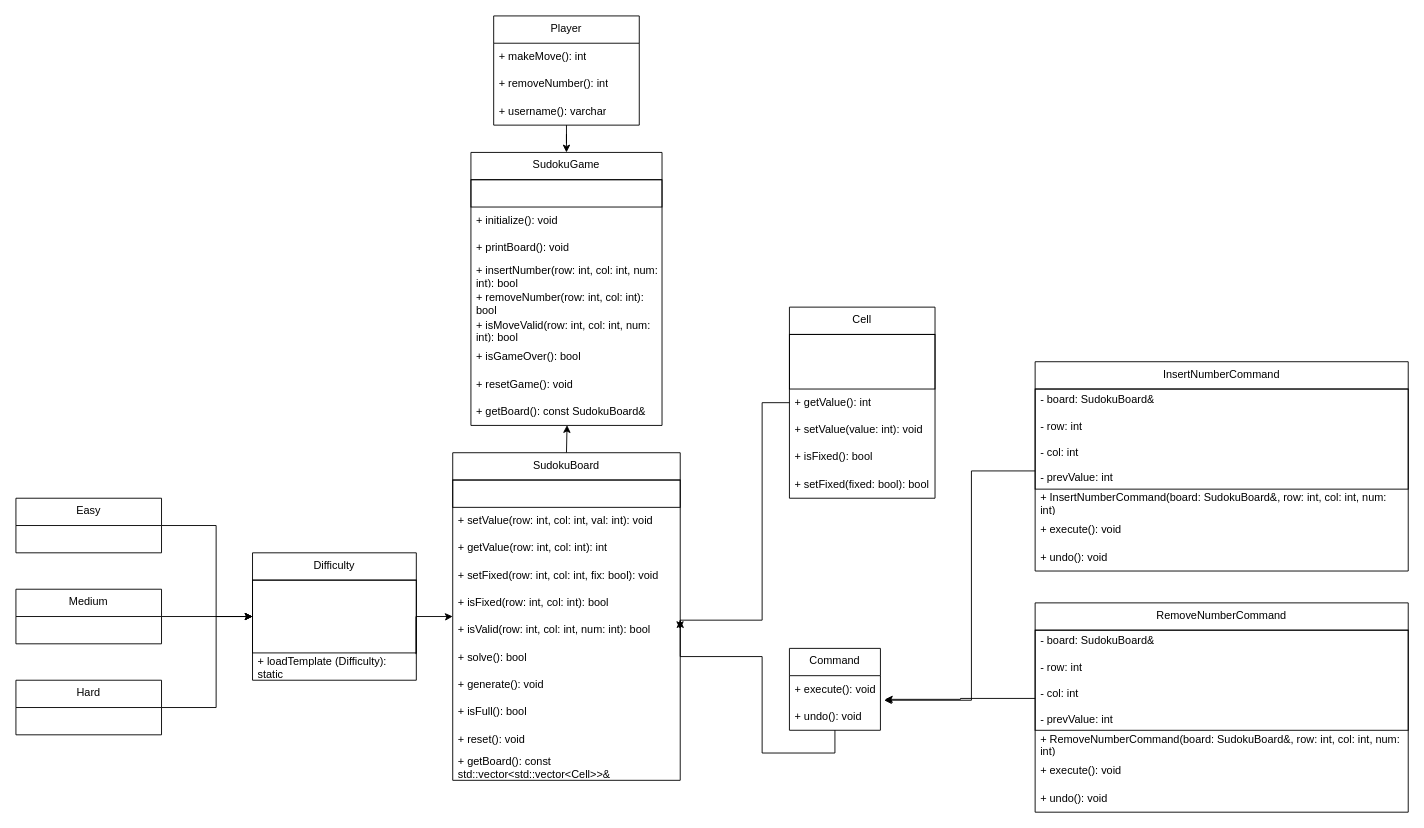
The diagram is 1424 pixels wide and 828 high, and some of its shapes have lost their labels. Each missing label, with the centre of its shape:
"- board: SudokuBoard" belongs at [566,193].
"- cells: Cell[9][9]" belongs at [566,493].
"- loadTemplateFromFile (filename): static - randomizePuzzle(puzzle): static" belongs at [334,616].
"- value: int - fixed: bool" belongs at [862,361].
